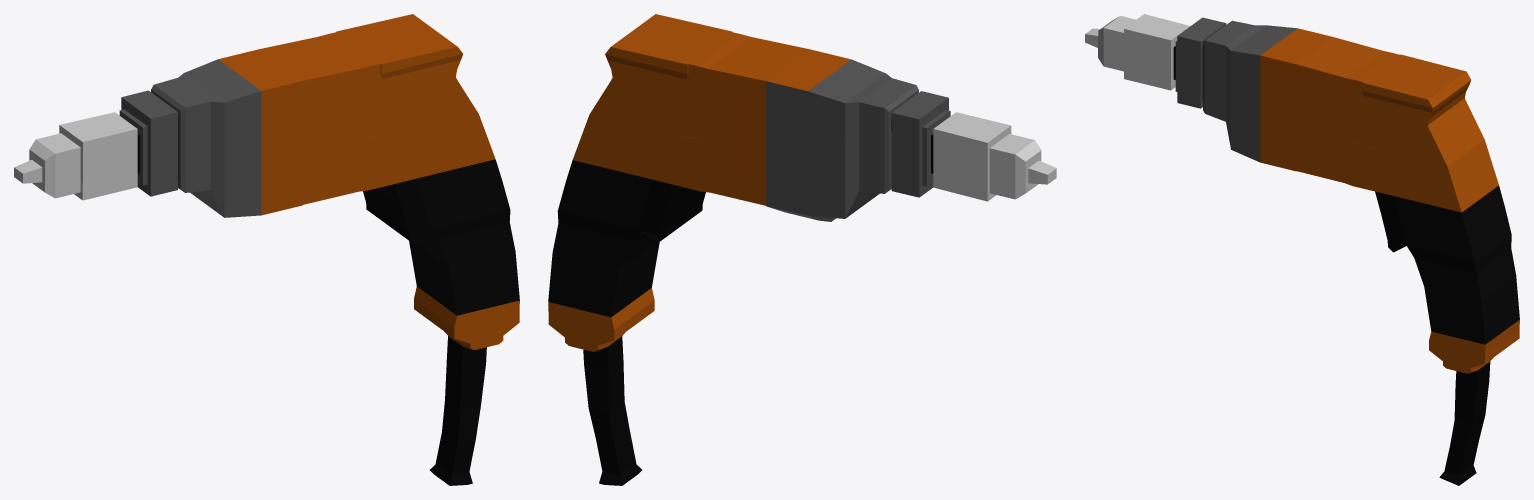
File: Drill2_0.obj
3 renders of one model, left to right at view 1: azimuth 30°, elevation 25°; view 2: azimuth 150°, elevation 25°; view 3: azimuth 330°, elevation 25°, orthographic. The views are drawn at different scales.
Visible parts, largest first — view 1: Drill_Cube.001; view 2: Drill_Cube.001; view 3: Drill_Cube.001.
Part boxes in pixels (x1,y1,x2,y2): Drill_Cube.001: (14,14,519,485); Drill_Cube.001: (548,14,1056,485); Drill_Cube.001: (1085,14,1519,485).
Bounding box in the file's own units: 4.56 × 4.13 × 0.7353.
